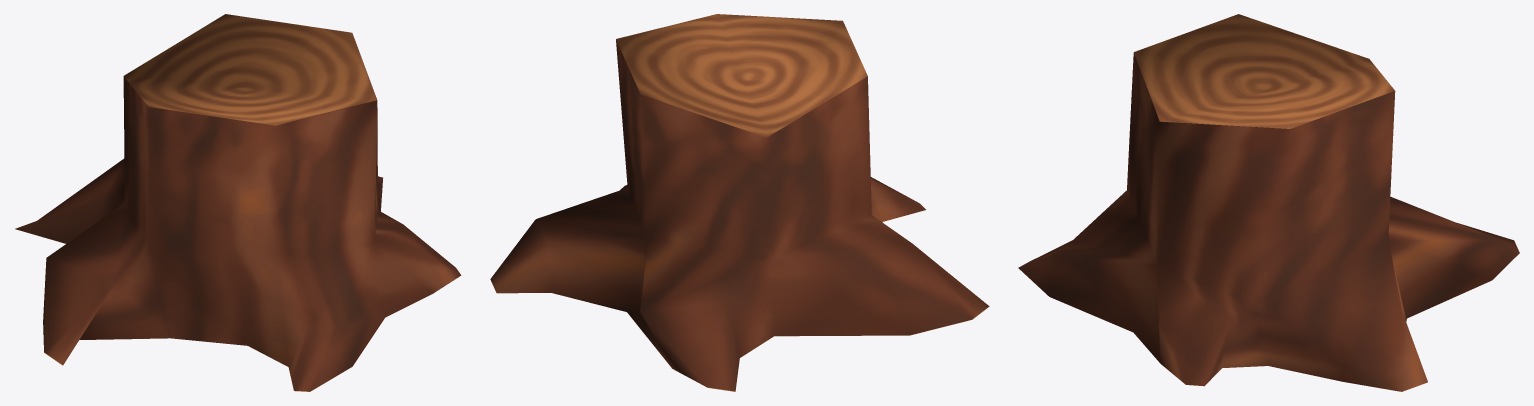
The model's file is ARC0710063.fbx.
The picture shows the model from 3 angles, left to right: view 1: azimuth 30°, elevation 25°; view 2: azimuth 150°, elevation 25°; view 3: azimuth 270°, elevation 25°; orthographic projection. The views are drawn at different scales.
Visible parts, largest first — view 1: smARC0710063; view 2: smARC0710063; view 3: smARC0710063.
Boxes of the visible parts, x1=… form: smARC0710063: x1=15, y1=14, x2=461, y2=391; smARC0710063: x1=490, y1=14, x2=989, y2=391; smARC0710063: x1=1018, y1=14, x2=1519, y2=391.
Size of the model in its own units: 133 by 69.67 by 138.
1 material, 1 textured.
